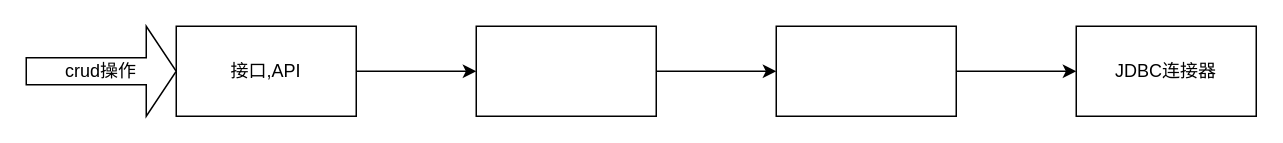
Image size: 1283x143. Some labels were removed from this diagram. Here are the shapes that lost their labels. From the top down, the centre of each, then its label:
[565,70]: sql会话，门面模式
[865,70]: 执行器
